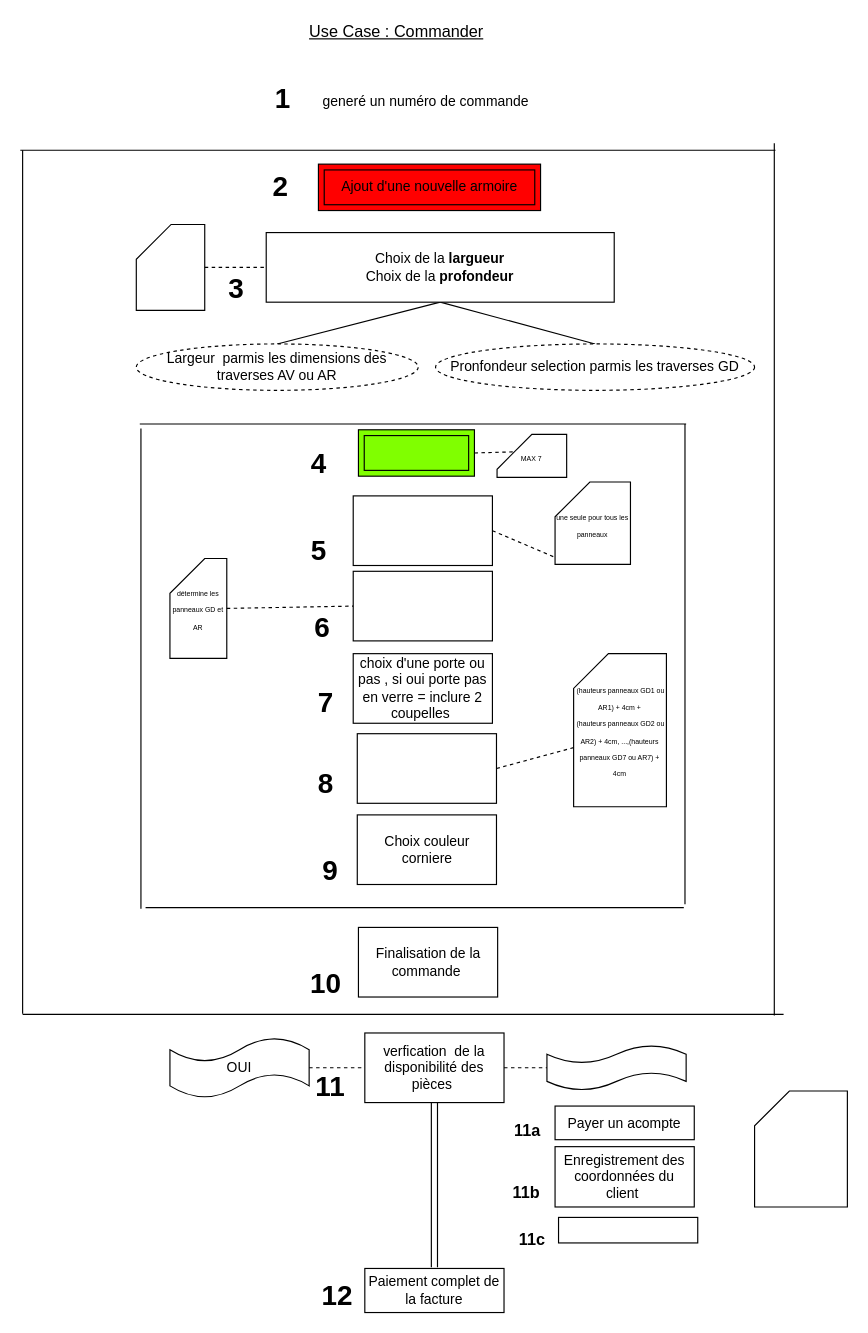
Some shapes in this 868 by 1333 pixel diagram are drawn without their labels. The shapes that lost their labels are listed below. From the top down, each one's centre as x and y in pixels, then its label:
the point at 170,266: détermine les dimension du panneau HB
the point at 415,452: Ajout d'un casier
the point at 422,530: Choix de la couleur
the point at 422,605: Choix de la hauteur du casier = hateurpanneauGD ou AR +4cm
the point at 426,768: Corniere à prendre
the point at 616,1067: NON
the point at 800,1148: La facture doit pouvoir être consulter
the point at 627,1229: Notifié le client
